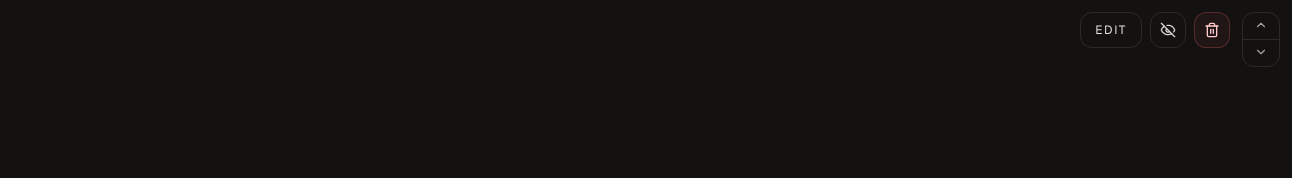
Test case: announcement row controls › delete confirmation › reports a refused deletion as an alert
The image size is (1292, 178).
Click the button named "Delete announcement".
click(1212, 30)  # box [1194,12,1230,48]
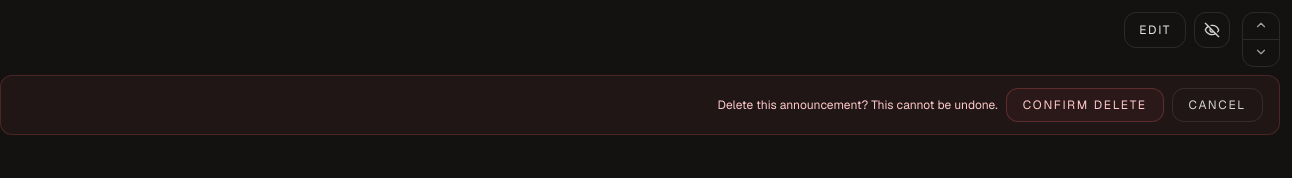
Click the button with aria-label "Confirm delete announcement".
click(1085, 105)  # box [1006,88,1164,122]
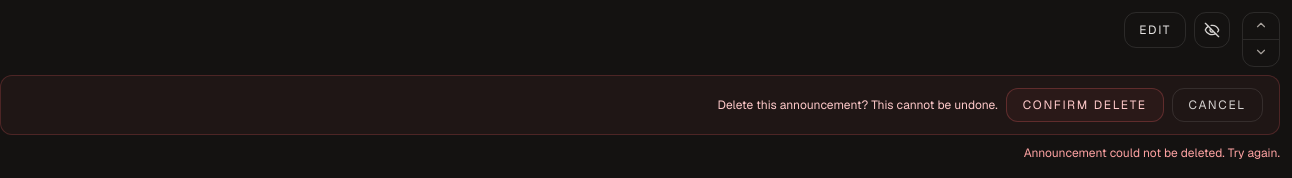
Now the message reads "Announcement could not be deleted. Try again.", box [1024,145,1280,161]
